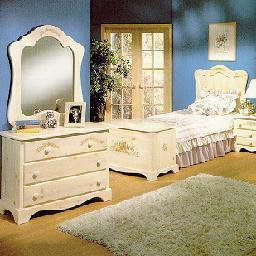Armario: (9, 133, 110, 212)
Cama: (175, 92, 235, 165)
Puerta: (104, 28, 167, 112)
